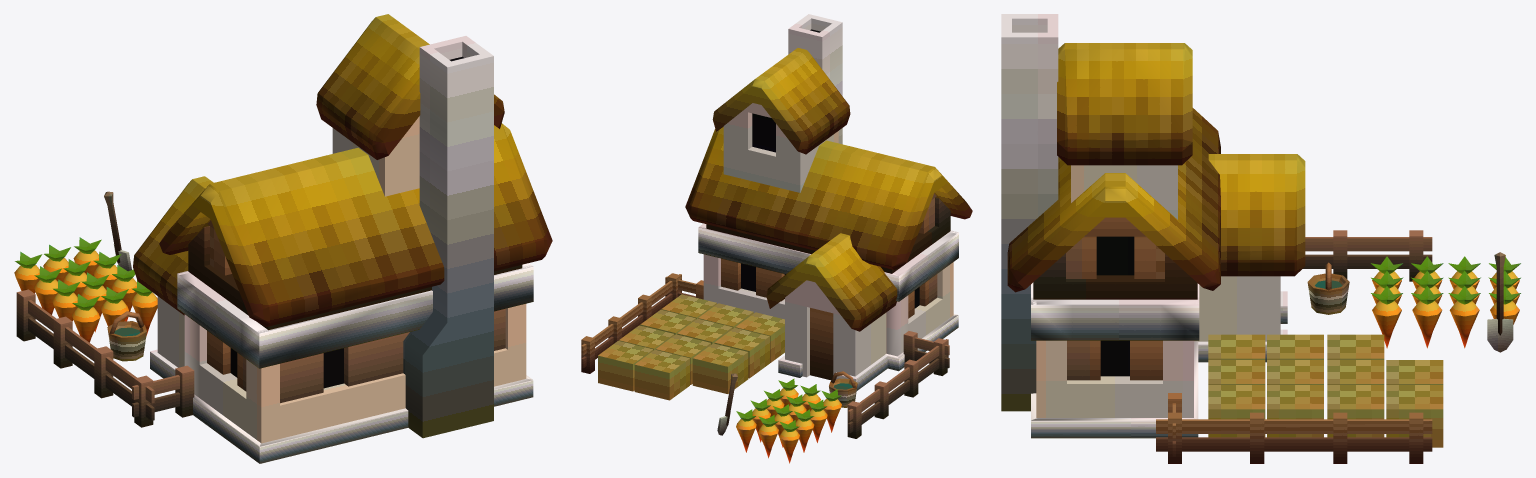
File: simple_low_poly_farm_lvl5.glb
3 views of the same model, side by side, from view 1: azimuth 30°, elevation 25°; view 2: azimuth 150°, elevation 25°; view 3: azimuth 270°, elevation 25° (orthographic). The views are drawn at different scales.
Visible parts, largest first — view 1: farm_lvl5_Material #25_0; view 2: farm_lvl5_Material #25_0; view 3: farm_lvl5_Material #25_0.
Boxes of the visible parts, x1,y1,x2,y2 form: farm_lvl5_Material #25_0: [14, 14, 552, 463]; farm_lvl5_Material #25_0: [581, 14, 972, 463]; farm_lvl5_Material #25_0: [1001, 14, 1520, 463].
Size of the model in its own units: 6.43 by 6.07 by 7.3.
Materials: 1 (1 with a texture image).
